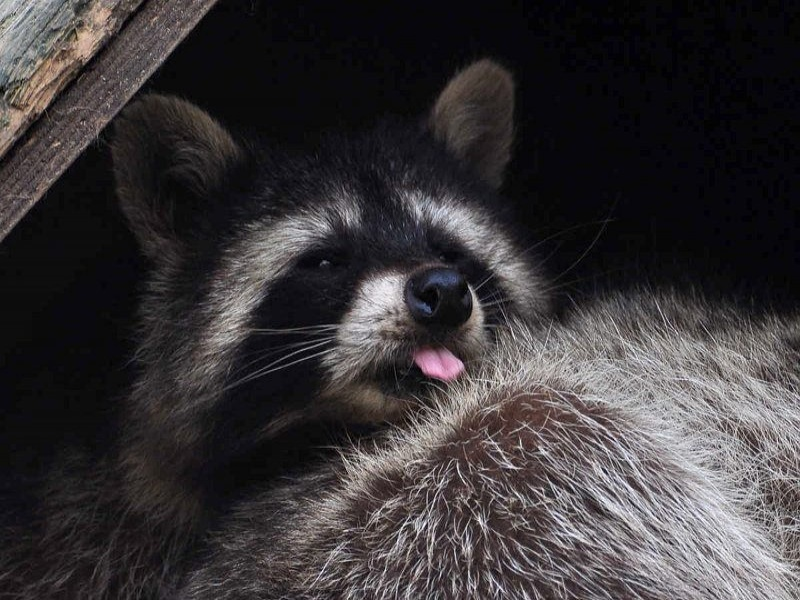raccoon: (70, 54, 776, 592)
